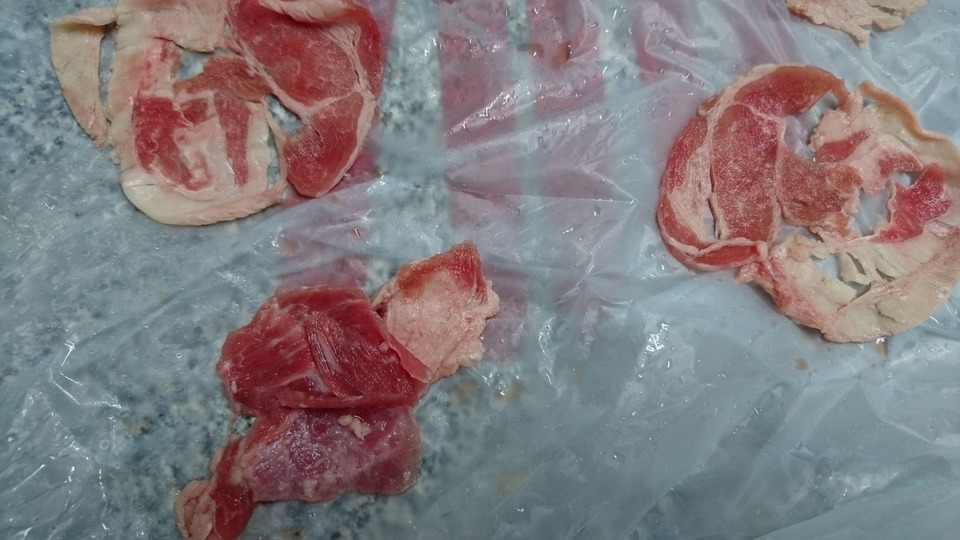restructured meat: (168, 237, 497, 540), (645, 52, 960, 351), (52, 1, 392, 228)
